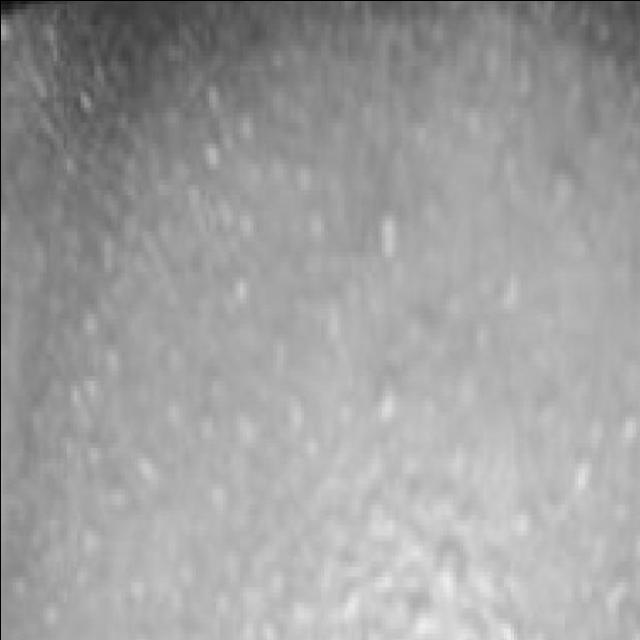whitehead: (10, 89, 638, 637)
